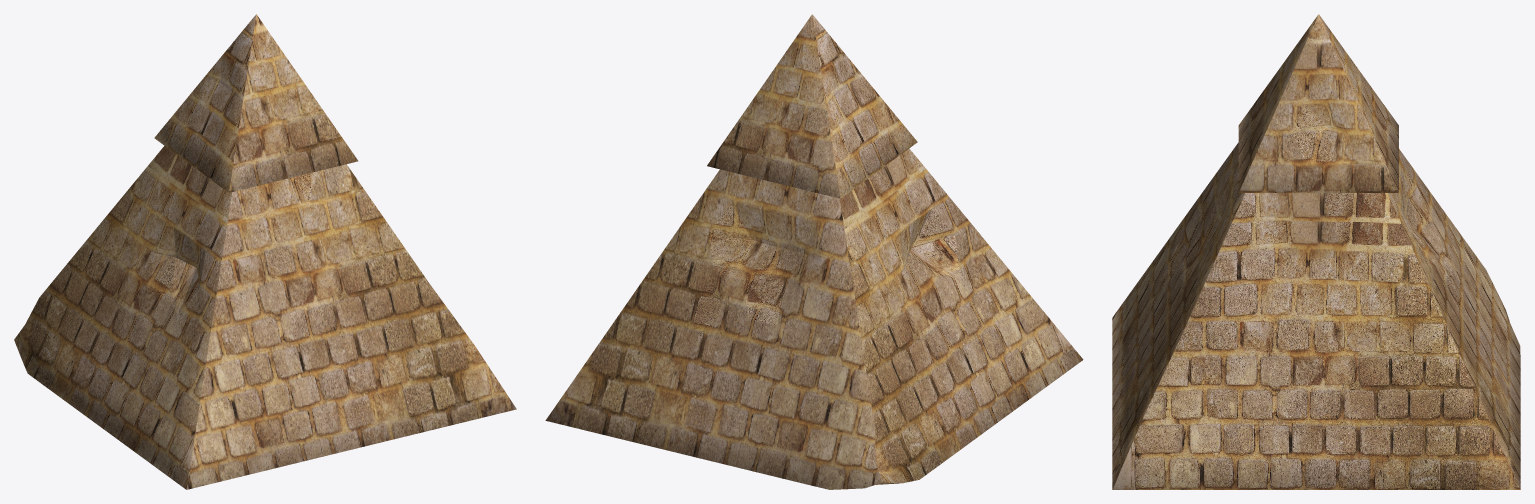
3 views of the same model, side by side, from view 1: azimuth 30°, elevation 25°; view 2: azimuth 150°, elevation 25°; view 3: azimuth 270°, elevation 25° (orthographic). The views are drawn at different scales.
Parts seen in each view (by area): view 1: Base, Top; view 2: Base, Top; view 3: Base, Top.
Part boxes in pixels (bbox=[...]): Base: bbox=[14, 146, 516, 489]; Top: bbox=[154, 14, 358, 192]; Base: bbox=[545, 148, 1083, 489]; Top: bbox=[707, 14, 917, 198]; Base: bbox=[1112, 142, 1520, 489]; Top: bbox=[1238, 14, 1398, 192].
Bounding box in the file's own units: 2 × 2.11 × 2.
Materials: 1 (1 with a texture image).
